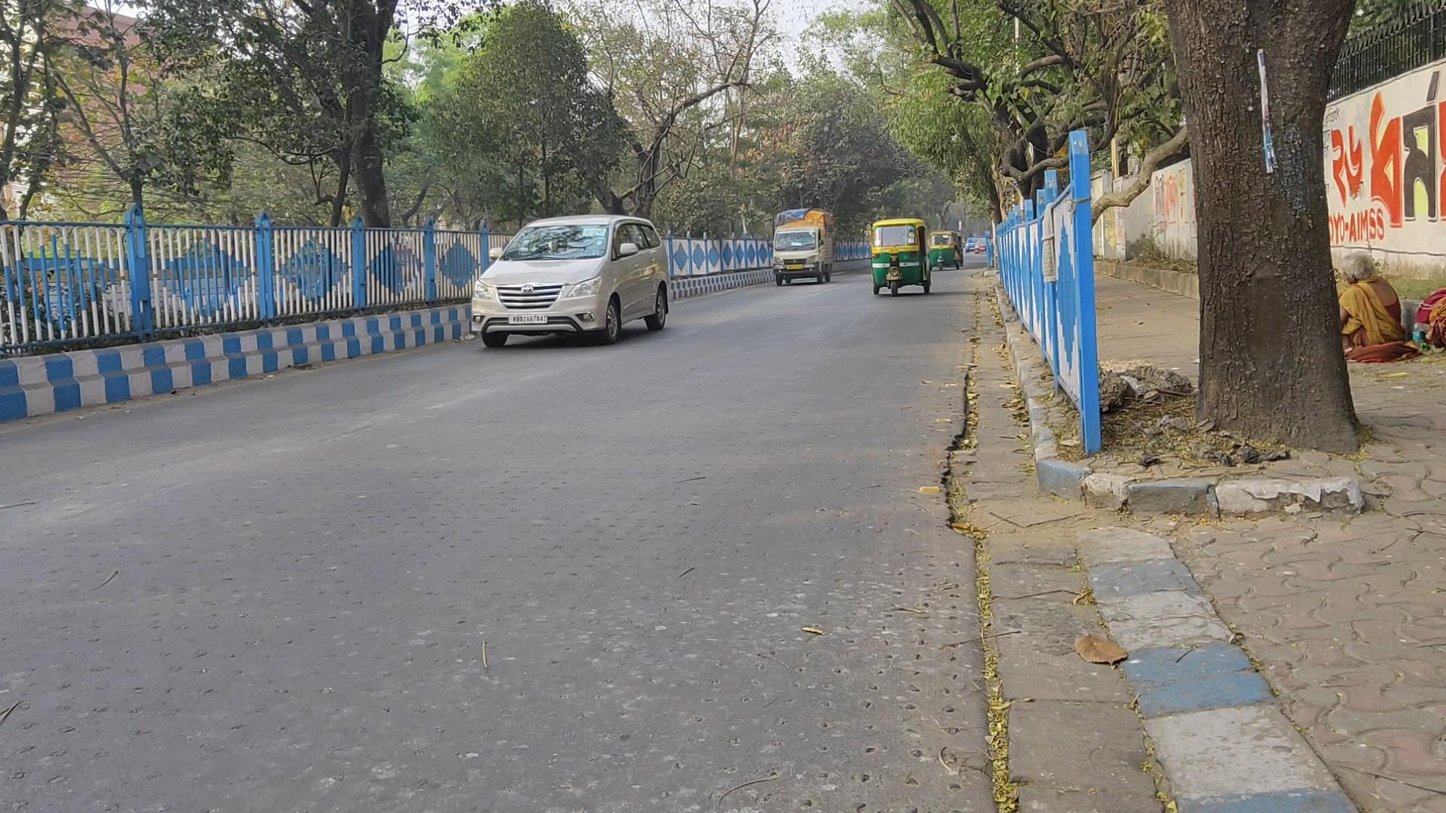Auto: (869, 218, 932, 298), (929, 229, 965, 273)
car: (470, 215, 669, 348)
van: (771, 207, 834, 288)
